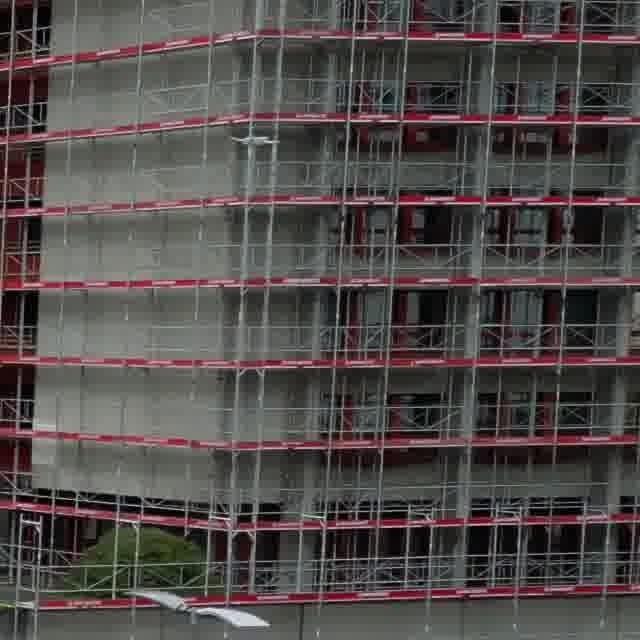Drohne: (232, 135, 278, 146)
